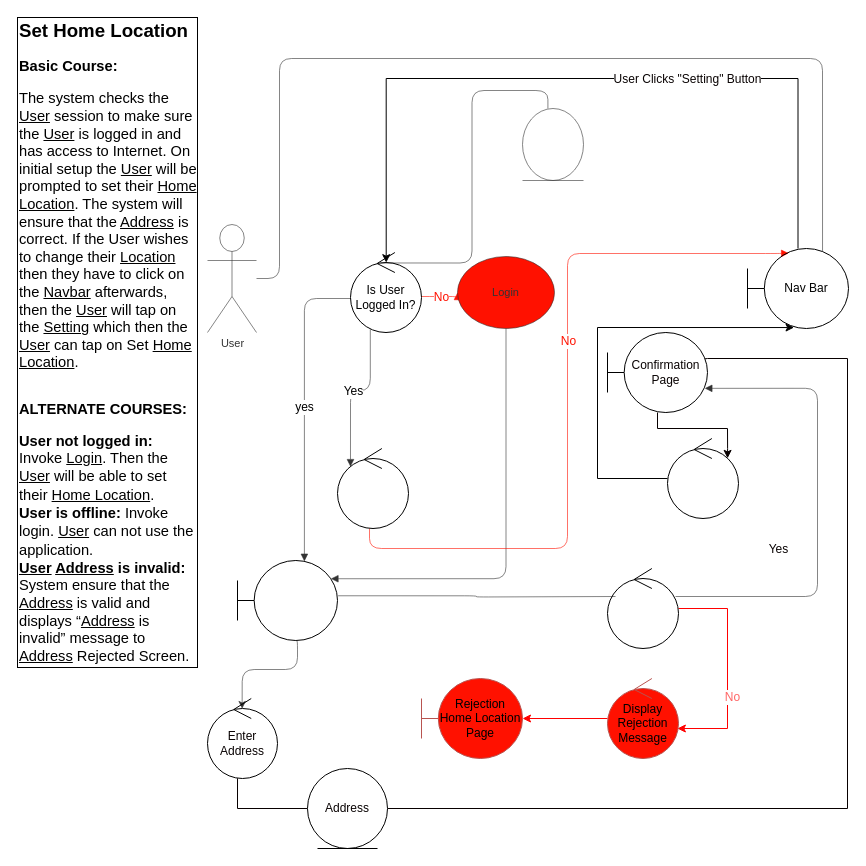
The diagram is 866 pixels wide and 866 high, and some of its shapes have lost their labels. Each missing label, with the centre of its shape:
"Change Home Location Page" belongs at point (287, 600).
"Did User Type Correct Address" belongs at point (642, 608).
"Display" belongs at point (702, 478).
"Initial Set Up?" belongs at point (372, 488).
"User Session" belongs at point (552, 144).
